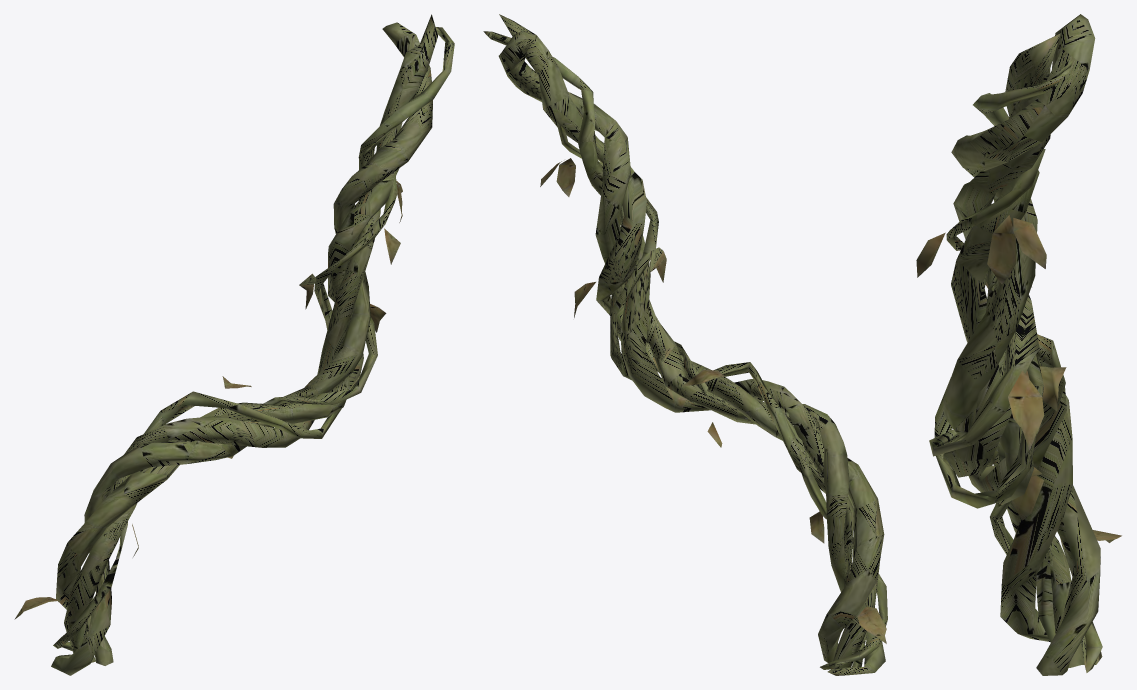
The model's file is vine-2.glb.
3 views of the same model, side by side, from view 1: azimuth 30°, elevation 25°; view 2: azimuth 150°, elevation 25°; view 3: azimuth 270°, elevation 25° (orthographic). The views are drawn at different scales.
Parts seen in each view (by area): view 1: geometry_0; view 2: geometry_0; view 3: geometry_0.
Boxes of the visible parts, left/top/right/bottom form: geometry_0: left=14, top=14, right=454, bottom=675; geometry_0: left=483, top=14, right=887, bottom=675; geometry_0: left=916, top=14, right=1121, bottom=675.
Size of the model in its own units: 0.7358 by 0.9531 by 0.1992.
1 material, 1 textured.
